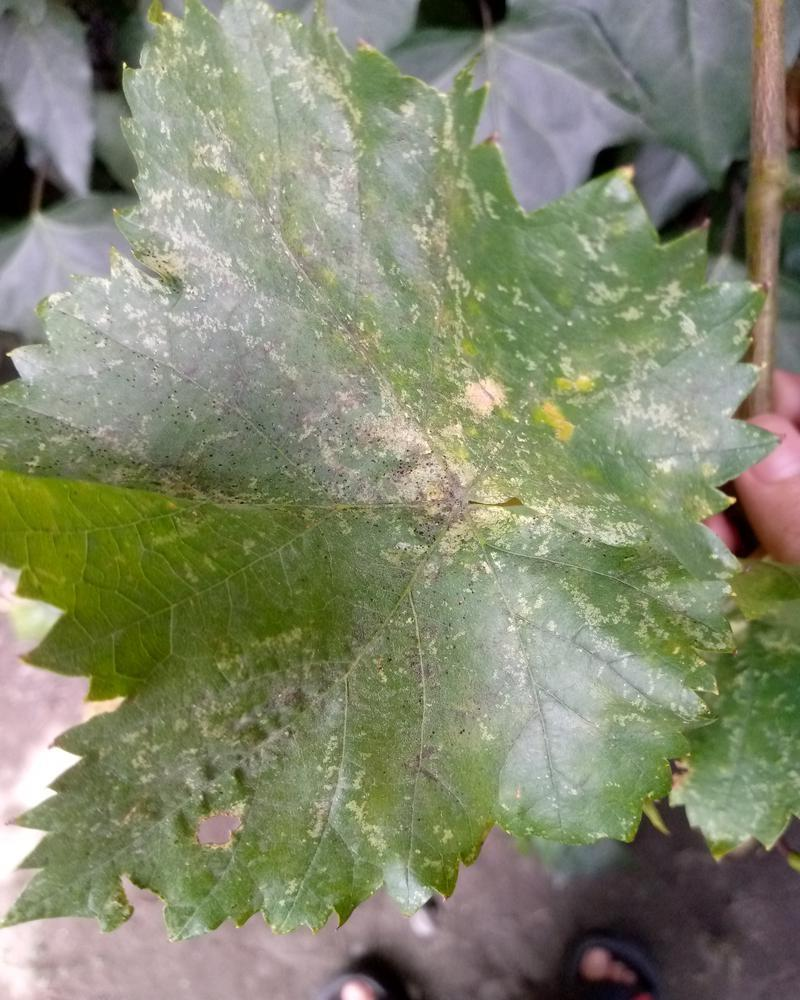Powdery-Mildew: (0, 0, 443, 460), (83, 615, 438, 905), (355, 410, 638, 602), (495, 608, 700, 846), (626, 340, 766, 492), (331, 206, 486, 334), (586, 156, 695, 326), (442, 359, 601, 463), (644, 562, 740, 638), (134, 325, 138, 330)
